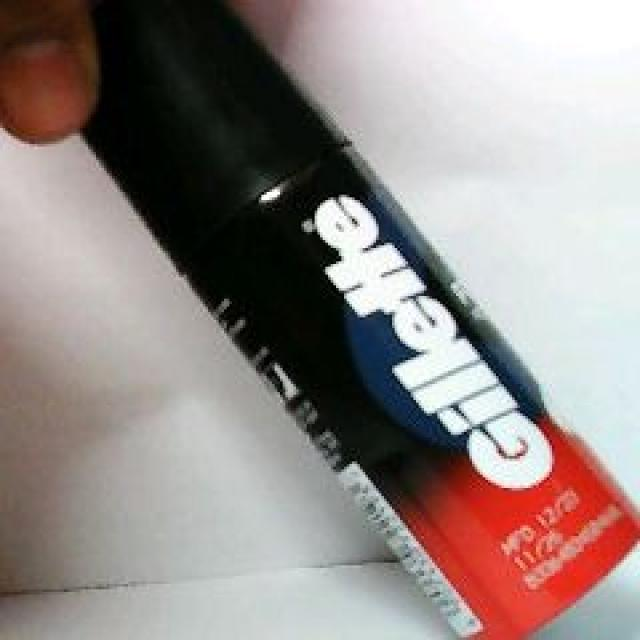gillette-foam: (80, 0, 637, 637)
